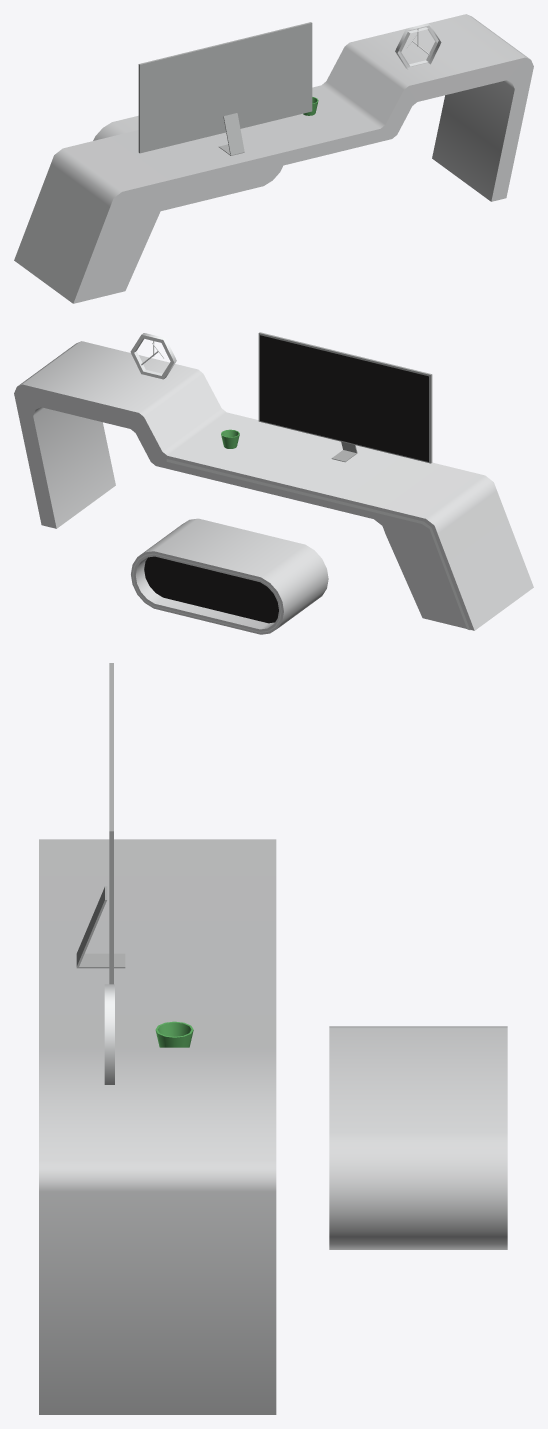
The model's file is M_BRshuzhuo02.FBX.
The picture shows the model from 3 angles, top to bottom: view 1: azimuth 30°, elevation 25°; view 2: azimuth 150°, elevation 25°; view 3: azimuth 270°, elevation 25°; orthographic projection. The views are drawn at different scales.
Visible parts, largest first — view 1: M_BRshuzhuo02_01, M_BRshuzhuo02_02, M_BRshuzhuo02_05; view 2: M_BRshuzhuo02_01, M_BRshuzhuo02_03, M_BRshuzhuo02_04, M_BRshuzhuo02_02, M_BRshuzhuo02_05; view 3: M_BRshuzhuo02_01, M_BRshuzhuo02_02, M_BRshuzhuo02_05, M_BRshuzhuo02_06.
Part boxes in pixels (x1,y1,x2,y2): M_BRshuzhuo02_01: [14, 14, 533, 303]; M_BRshuzhuo02_02: [138, 22, 312, 155]; M_BRshuzhuo02_05: [395, 23, 441, 69]; M_BRshuzhuo02_01: [14, 341, 533, 634]; M_BRshuzhuo02_03: [260, 335, 428, 461]; M_BRshuzhuo02_04: [132, 459, 469, 632]; M_BRshuzhuo02_02: [258, 332, 432, 463]; M_BRshuzhuo02_05: [130, 333, 176, 379]; M_BRshuzhuo02_01: [39, 839, 507, 1414]; M_BRshuzhuo02_02: [76, 663, 125, 984]; M_BRshuzhuo02_05: [104, 984, 114, 1084]; M_BRshuzhuo02_06: [155, 1021, 193, 1047].
Bounding box in the file's own units: 4.26 × 1.82 × 1.88.
